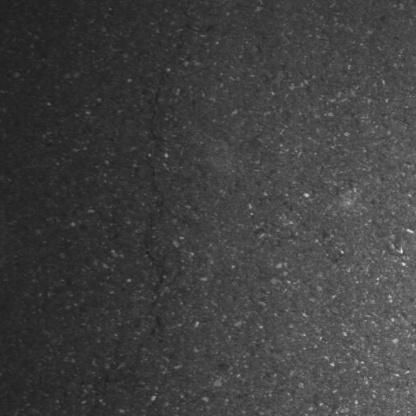Cracks: (132, 162, 171, 365), (146, 63, 173, 135)
